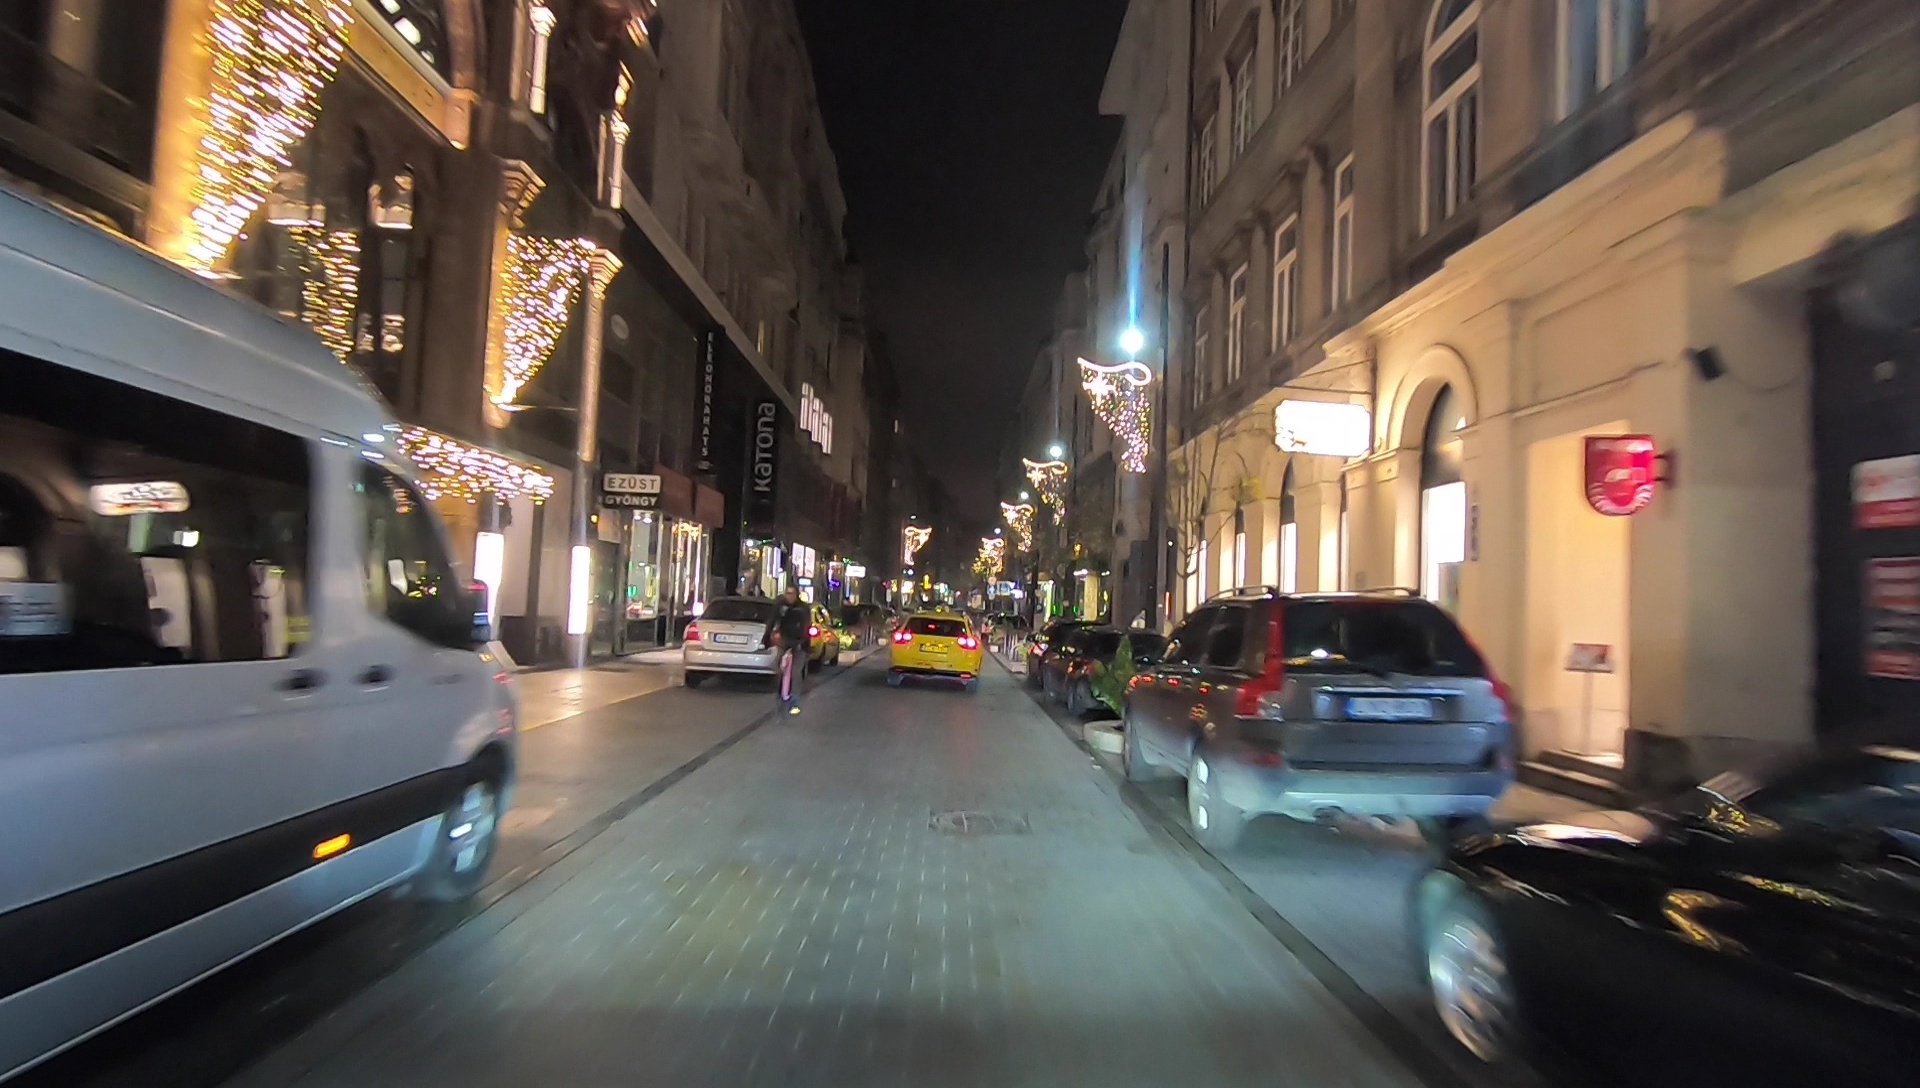person: (776, 585, 806, 723)
